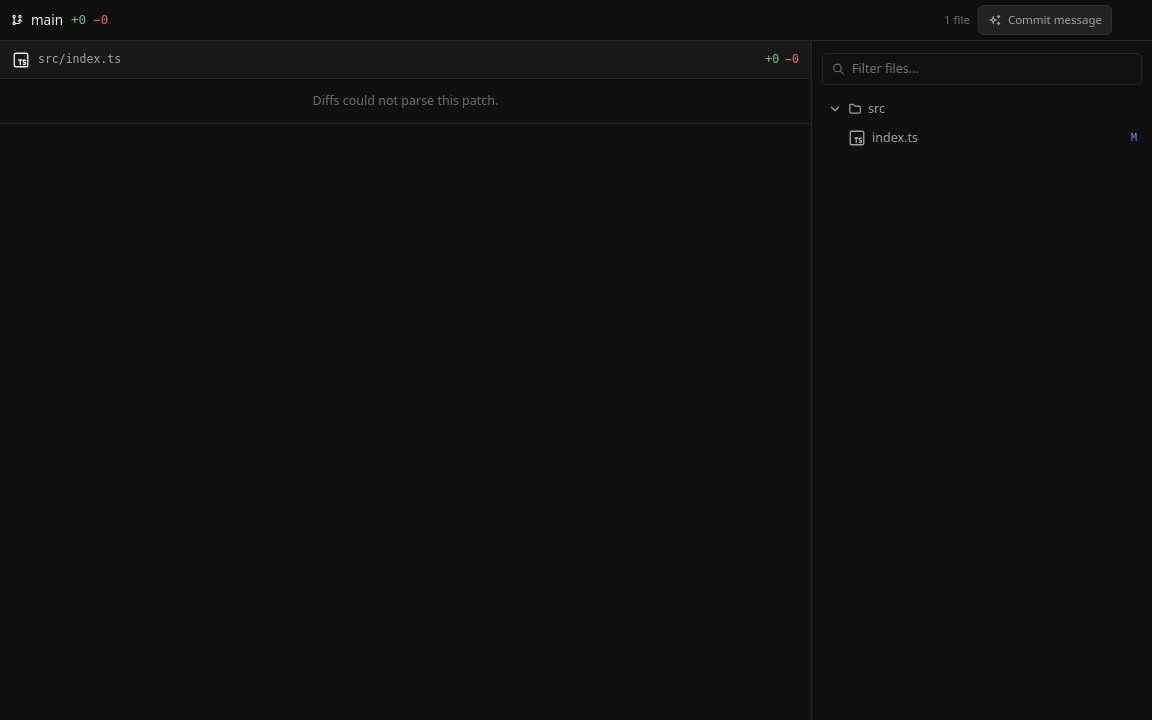
Test case: WorkspaceReview › drafts a commit message through the configured background model
Click the button with aria-label "Draft commit message". click: [1045, 20]
box: [978,5,1112,35]
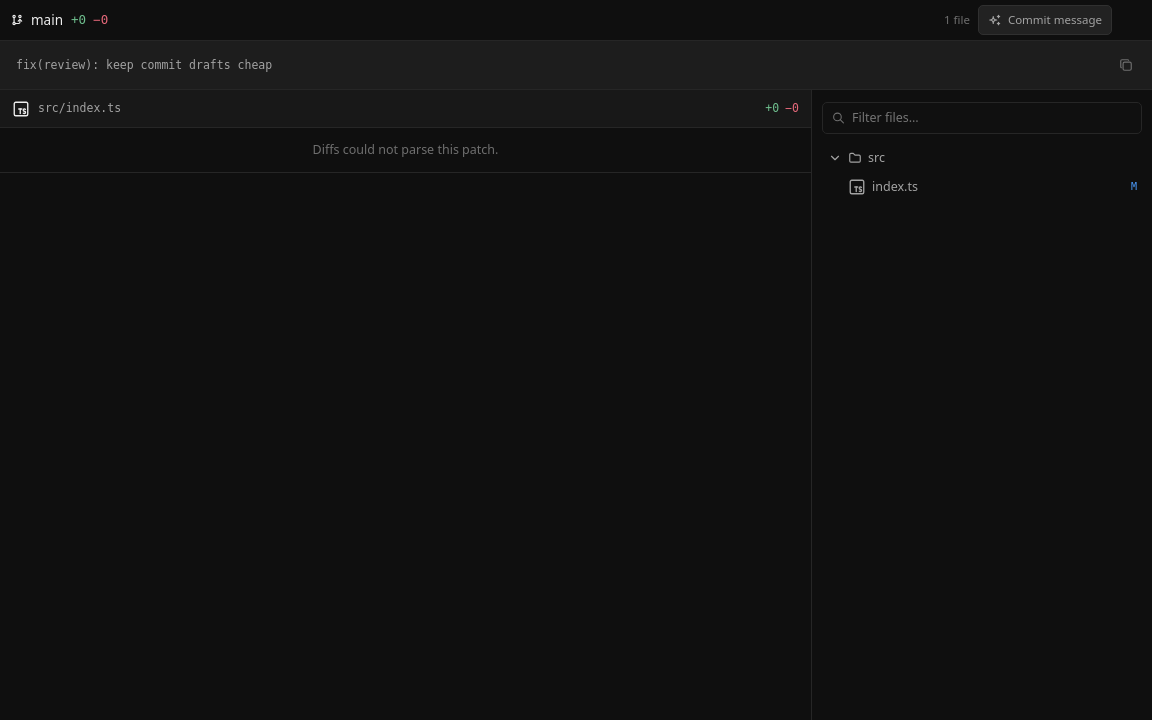
Now the text "fix(review): keep commit drafts cheap" is shown, box [16,58,272,72]
